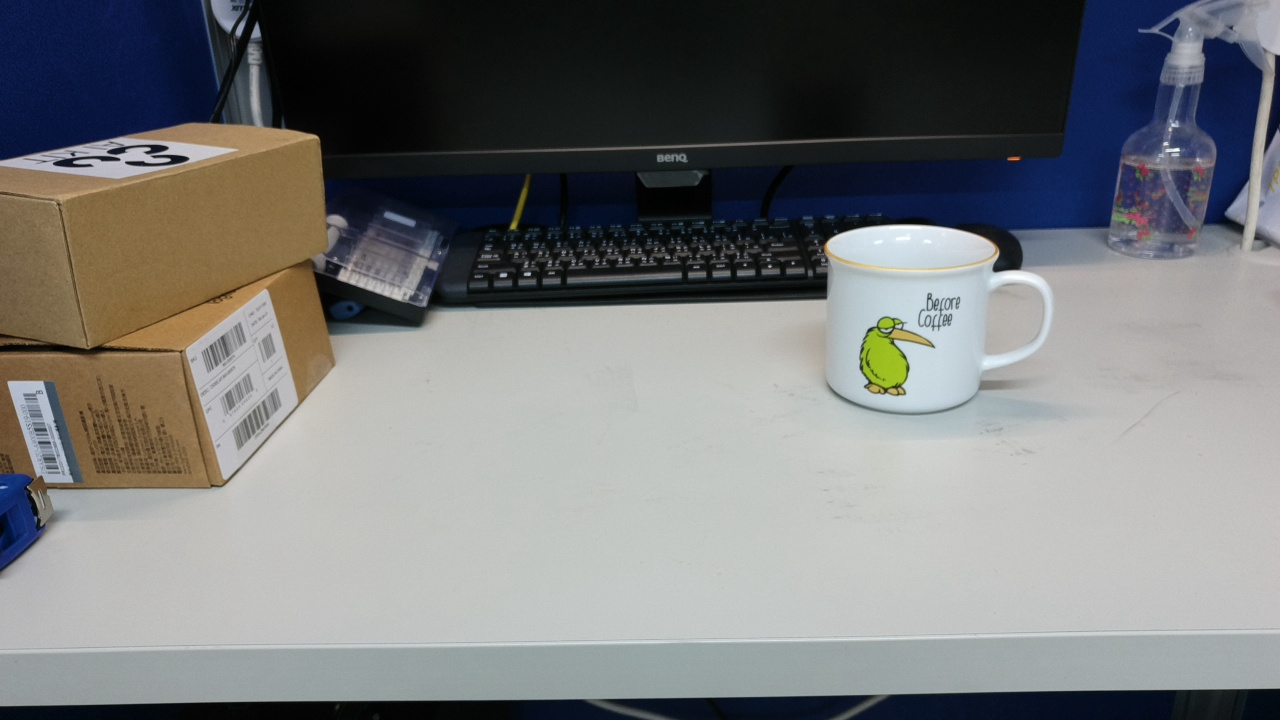circle: (353, 448, 507, 565)
